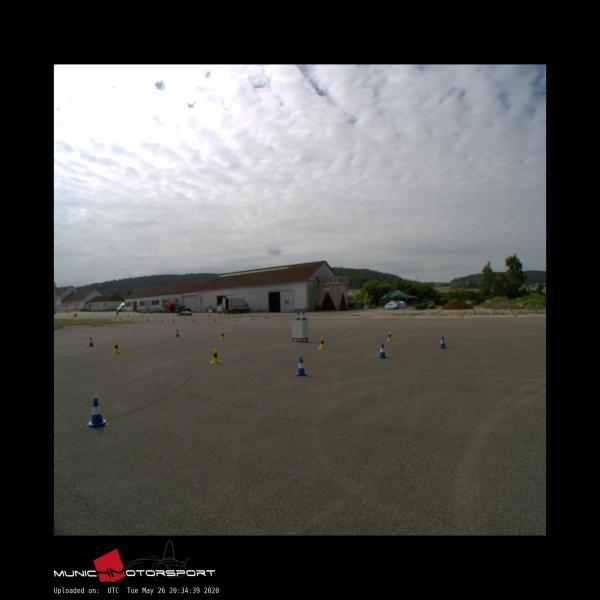blue_cone: (86, 398, 108, 427), (294, 357, 308, 376), (378, 343, 387, 358), (438, 336, 446, 348), (88, 337, 94, 346), (176, 329, 180, 337), (296, 312, 300, 320), (302, 312, 306, 320)
yellow_cone: (210, 348, 220, 363), (317, 336, 326, 348), (113, 341, 120, 353), (386, 332, 392, 340), (220, 331, 225, 339)
